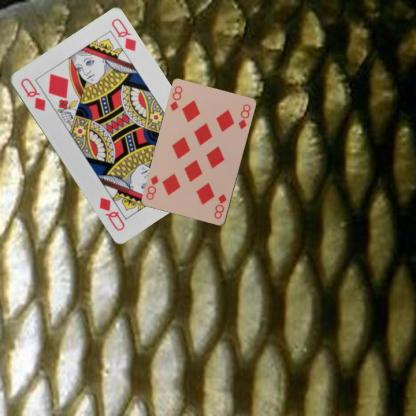8d: (168, 83, 184, 113), (212, 191, 228, 220)
Qd: (17, 75, 47, 112)
